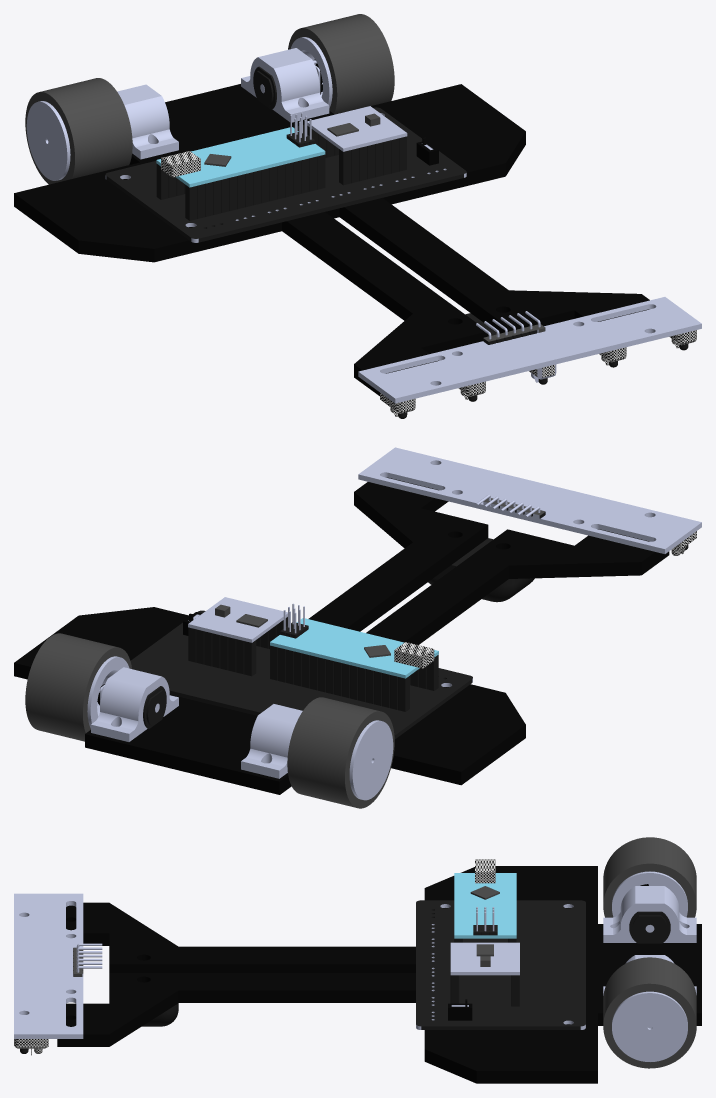
File: VELOCISTAc vsddsf.fbx
The picture shows the model from 3 angles, top to bottom: view 1: azimuth 30°, elevation 25°; view 2: azimuth 150°, elevation 25°; view 3: azimuth 270°, elevation 25°; orthographic projection. The views are drawn at different scales.
Visible parts, largest first — view 1: matte brass, color, black low gloss plastic, dark grey low gloss plastic, blue low gloss plastic, texture; view 2: matte brass, color, black low gloss plastic, dark grey low gloss plastic, blue low gloss plastic, texture; view 3: matte brass, color, black low gloss plastic, dark grey low gloss plastic, blue low gloss plastic, texture, polished silver.
Part boxes in pixels (<box>): matte brass: <box>14,84,649,395</box>; color: <box>26,37,701,403</box>; black low gloss plastic: <box>105,66,688,418</box>; dark grey low gloss plastic: <box>25,14,545,341</box>; blue low gloss plastic: <box>156,127,325,187</box>; texture: <box>161,151,696,416</box>; matte brass: <box>14,477,669,794</box>; color: <box>87,447,701,800</box>; black low gloss plastic: <box>130,504,688,739</box>; dark grey low gloss plastic: <box>25,498,545,808</box>; blue low gloss plastic: <box>270,618,438,678</box>; texture: <box>394,531,696,668</box>; matte brass: <box>57,866,701,1083</box>; color: <box>14,871,696,1061</box>; black low gloss plastic: <box>20,900,670,1053</box>; dark grey low gloss plastic: <box>73,837,696,1068</box>; blue low gloss plastic: <box>454,873,516,938</box>; texture: <box>14,859,495,1055</box>; polished silver: <box>448,1003,472,1020</box>.
Bounding box in the file's own units: 14 × 3.32 × 19.85.
11 materials, 1 textured.
